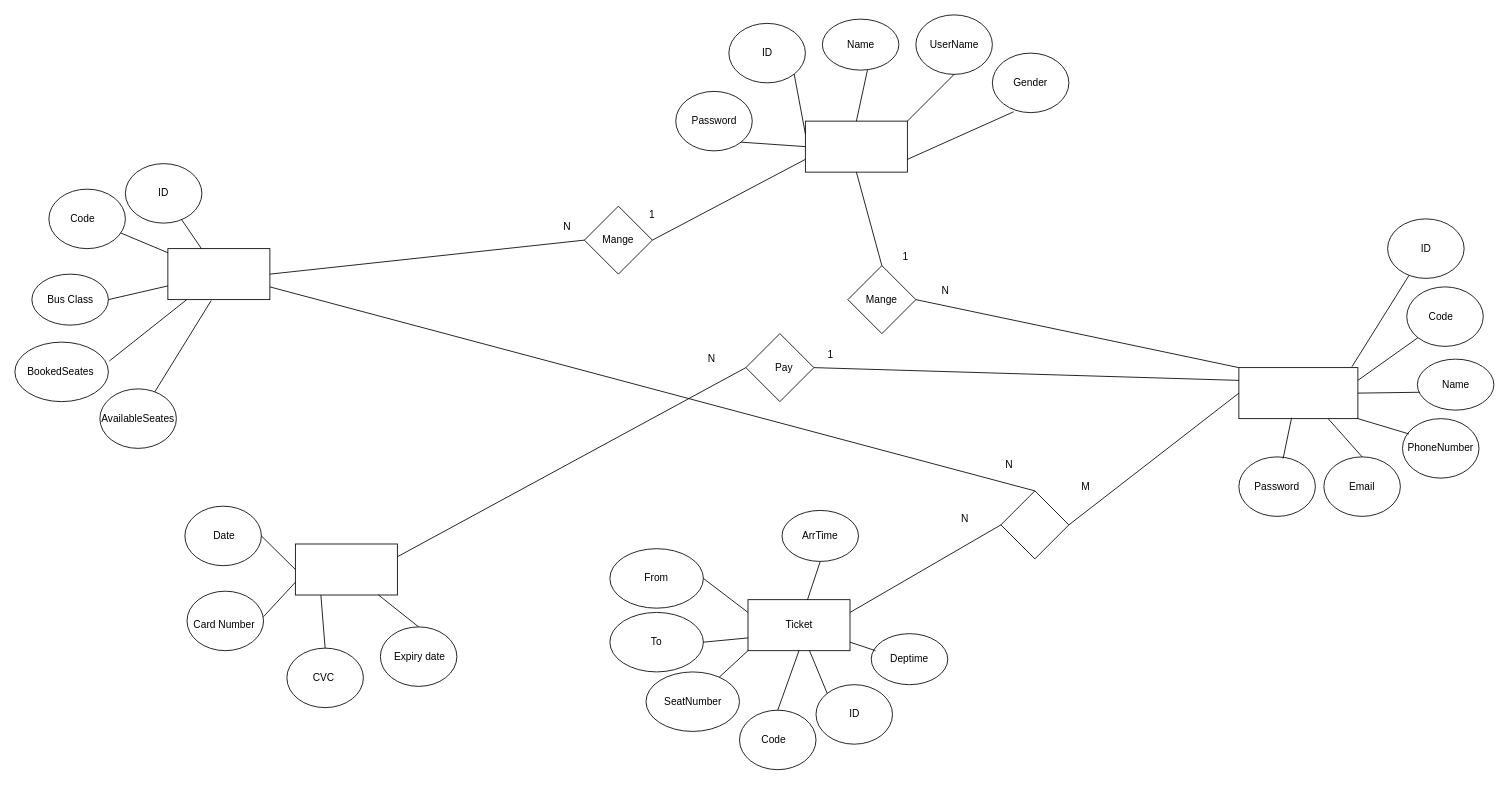
This 1509x785 diagram has some shape labels left out. The box of each missing label's shape, as (x1, y1, x2, y2) in pixels:
Admin: (805, 120, 907, 172)
Book: (1000, 490, 1069, 559)
Bus: (167, 248, 270, 300)
Passenger: (1238, 367, 1358, 419)
Payment: (295, 543, 397, 595)
